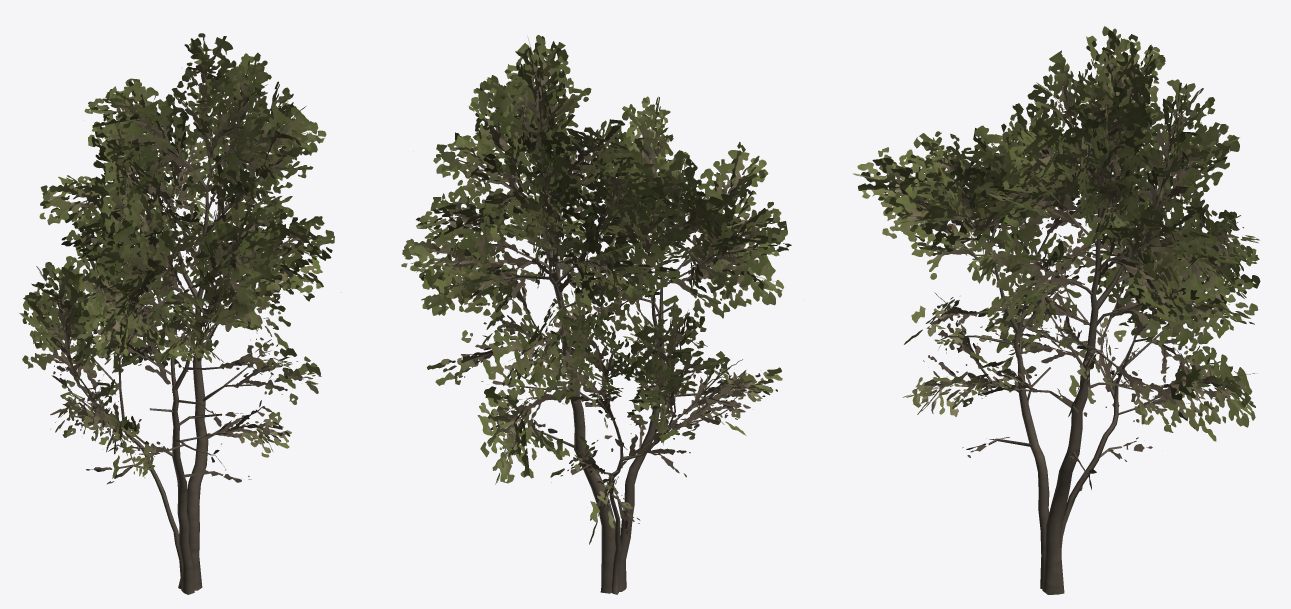
File: SM_BlackAlder_Forest_05_PP_LOD5.gltf
The picture shows the model from 3 angles, left to right: view 1: azimuth 30°, elevation 25°; view 2: azimuth 150°, elevation 25°; view 3: azimuth 270°, elevation 25°; orthographic projection. The views are drawn at different scales.
Visible parts, largest first — view 1: SM_BlackAlder_Forest_05_PP; view 2: SM_BlackAlder_Forest_05_PP; view 3: SM_BlackAlder_Forest_05_PP.
Part boxes in pixels (x1,y1,x2,y2): SM_BlackAlder_Forest_05_PP: (19, 33, 341, 594); SM_BlackAlder_Forest_05_PP: (401, 35, 791, 594); SM_BlackAlder_Forest_05_PP: (853, 26, 1260, 594).
Size of the model in its own units: 6.83 by 11.42 by 7.55.
2 materials, 2 textured.
